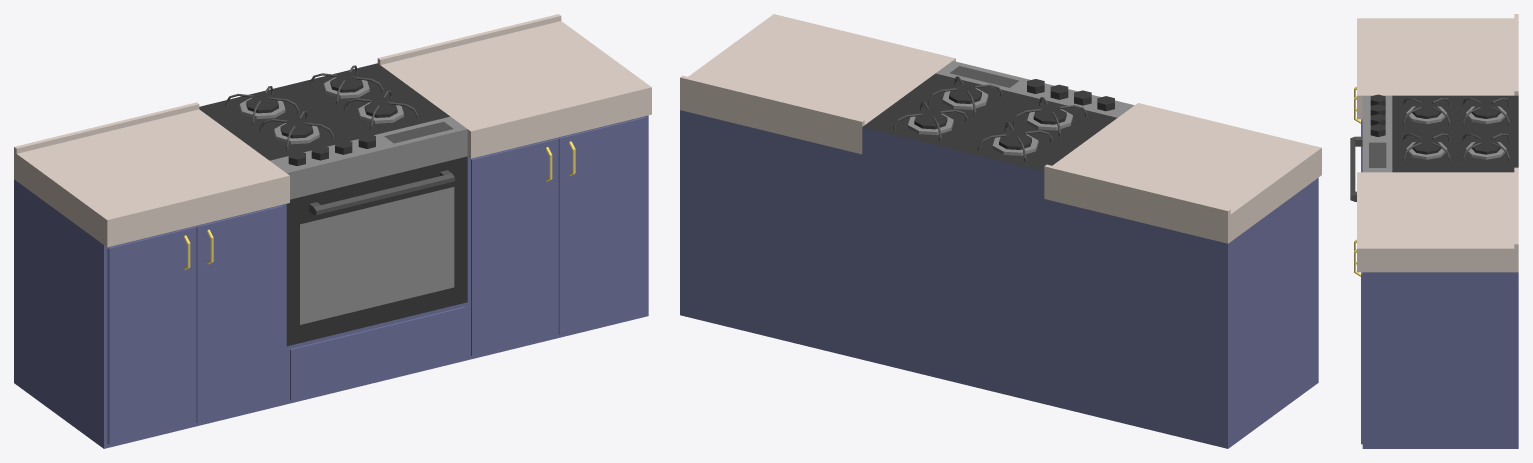
Rendered from Kitchen.fbx.
3 views of the same model, side by side, from view 1: azimuth 30°, elevation 25°; view 2: azimuth 150°, elevation 25°; view 3: azimuth 270°, elevation 25° (orthographic). The views are drawn at different scales.
Visible parts, largest first — view 1: kitchen_set_Room_5.001; view 2: kitchen_set_Room_5.001; view 3: kitchen_set_Room_5.001.
Part boxes in pixels (box(x1,y1,x2,y2)): kitchen_set_Room_5.001: box(14, 14, 651, 448); kitchen_set_Room_5.001: box(680, 14, 1321, 448); kitchen_set_Room_5.001: box(1350, 14, 1518, 448).
Bounding box in the file's own units: 283 × 121 × 87.23.
